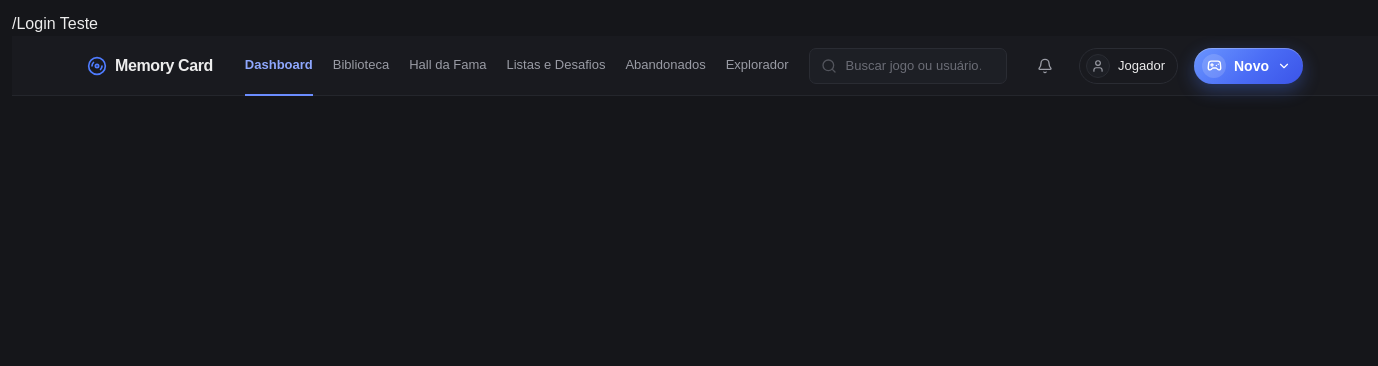
Topbar - Menu de usuário › exibe as três ações do menu Novo e navega para nova lista
The image size is (1378, 366).
Click the button "Novo" at point(1248, 66), box [1194,48,1303,84]
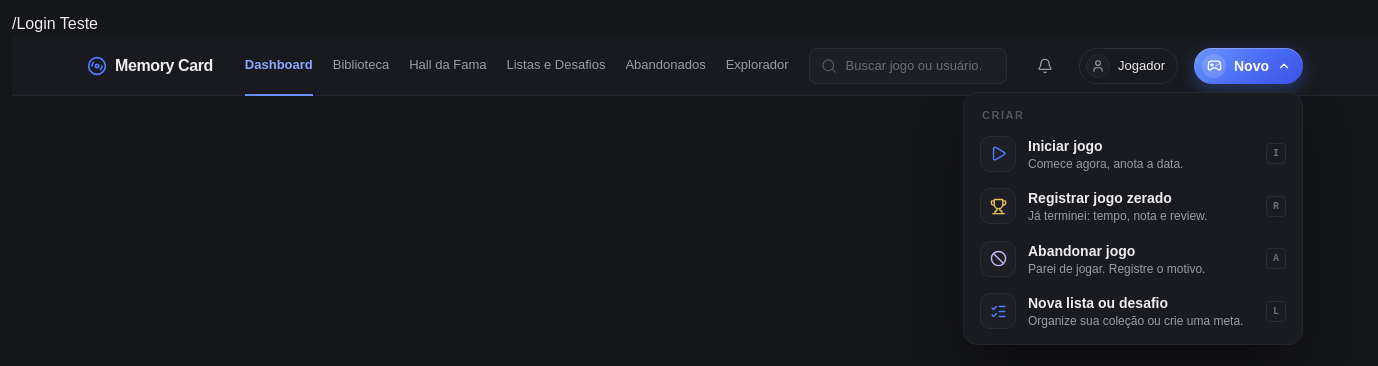
Now the menu item "Iniciar jogo Comece agora, anota a data. I" is shown, box [970,128,1296,180]
Now the menu item "Registrar jogo zerado Já terminei: tempo, nota e review. R" is shown, box [970,180,1296,232]
Click the menu item "Nova lista ou desafio" at point(1133, 311), box [970,285,1296,338]
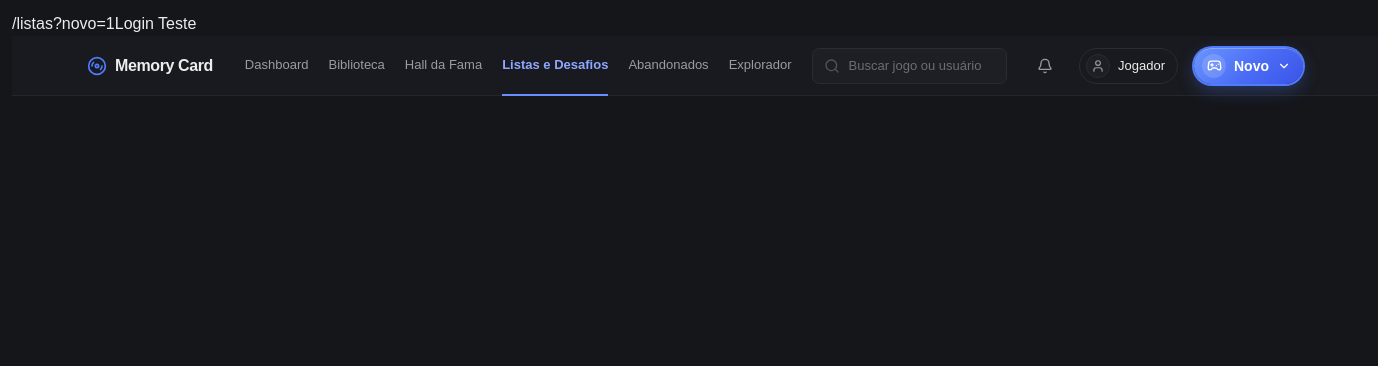
Now the text with test id "location" reads "/listas?novo=1", box [12,15,115,32]
